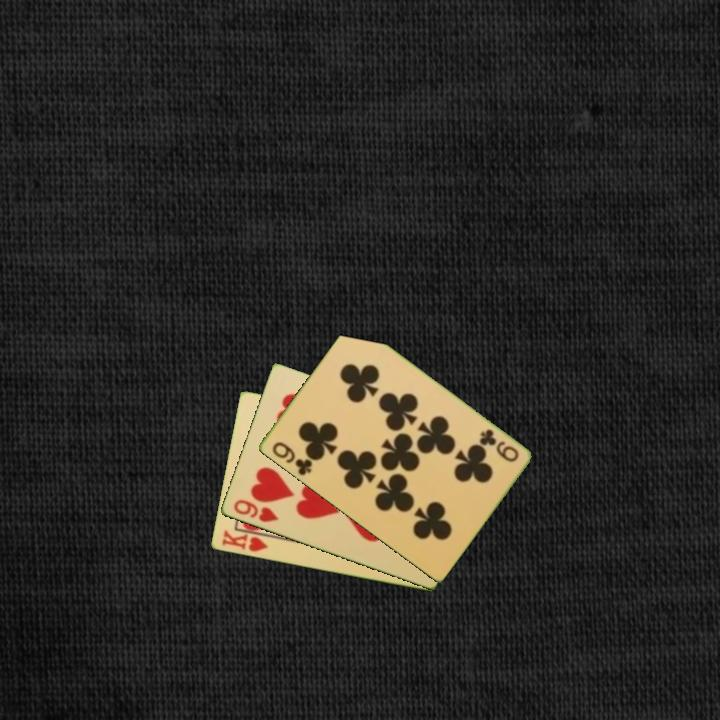9c: (268, 438, 315, 479), (475, 425, 521, 465)
9h: (230, 496, 281, 526)
Kh: (218, 526, 275, 555)
